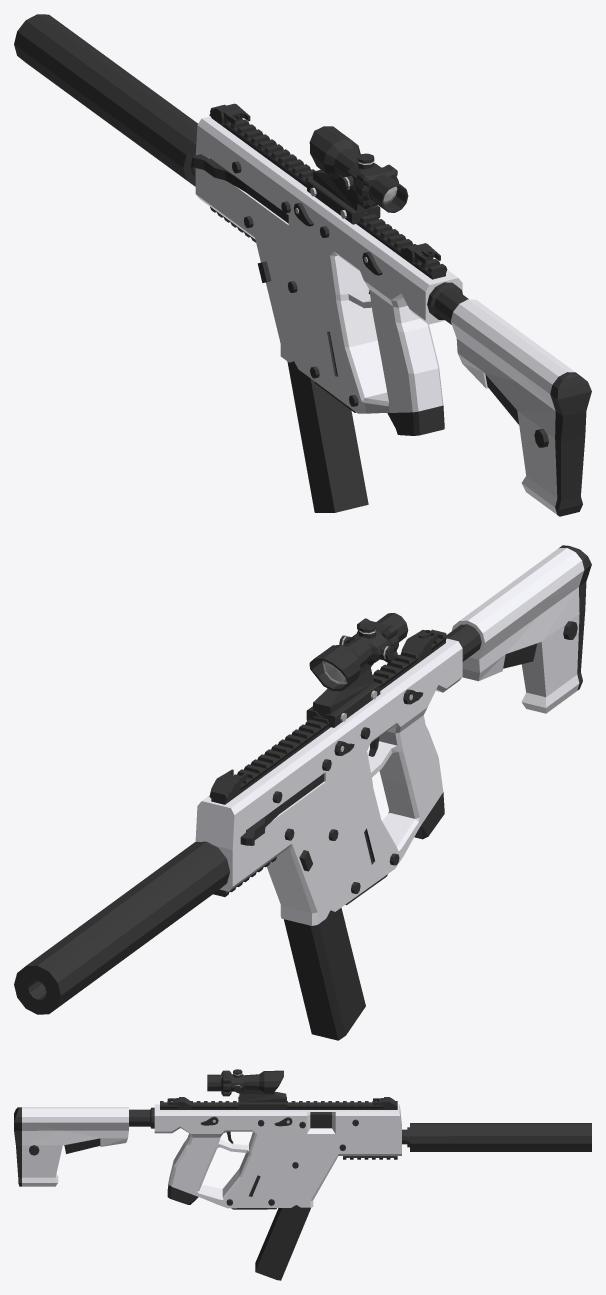
Rendered from SMG.fbx.
The picture shows the model from 3 angles, top to bottom: view 1: azimuth 30°, elevation 25°; view 2: azimuth 150°, elevation 25°; view 3: azimuth 270°, elevation 25°; orthographic projection. The views are drawn at different scales.
Parts seen in each view (by area): view 1: Box001, Cylinder003, Tube001.001, Box007, Cylinder001, Box009; view 2: Box001, Cylinder003, Tube001.001, Box007, Cylinder001, Box009; view 3: Box001, Cylinder003, Tube001.001, Cylinder001, Box007, Box009.
Part boxes in pixels (x1=…): Box001: x1=195, y1=103, x2=468, y2=435; Cylinder003: x1=451, y1=299, x2=591, y2=516; Tube001.001: x1=14, y1=14, x2=197, y2=186; Box007: x1=287, y1=361, x2=368, y2=512; Cylinder001: x1=307, y1=126, x2=408, y2=224; Box009: x1=192, y1=154, x2=288, y2=223; Box001: x1=195, y1=624, x2=481, y2=925; Cylinder003: x1=451, y1=545, x2=591, y2=713; Tube001.001: x1=14, y1=841, x2=229, y2=1014; Box007: x1=284, y1=907, x2=365, y2=1040; Cylinder001: x1=306, y1=613, x2=408, y2=727; Box009: x1=240, y1=773, x2=324, y2=845; Box001: x1=129, y1=1097, x2=401, y2=1209; Cylinder003: x1=14, y1=1107, x2=128, y2=1186; Tube001.001: x1=407, y1=1123, x2=591, y2=1151; Cylinder001: x1=207, y1=1069, x2=286, y2=1109; Box007: x1=255, y1=1205, x2=310, y2=1280; Box009: x1=310, y1=1112, x2=331, y2=1128.
Size of the model in its own units: 37.39 by 251 by 641.
